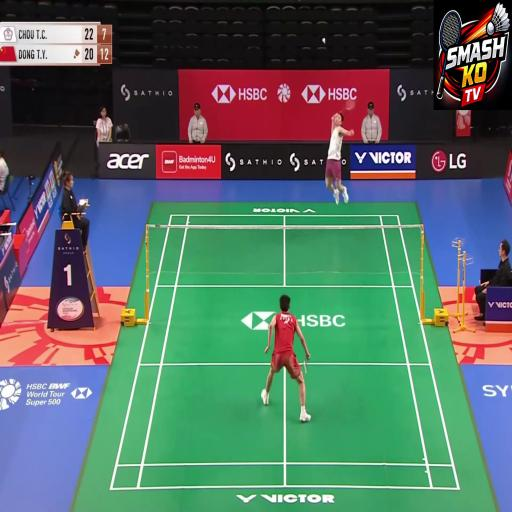player: (250, 241, 326, 449), (312, 108, 360, 236)
